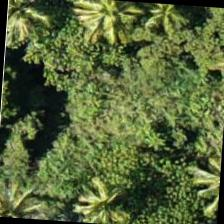Kelapa_Sawit: (48, 159, 144, 223), (111, 0, 206, 63), (57, 0, 152, 60), (4, 0, 61, 55)
